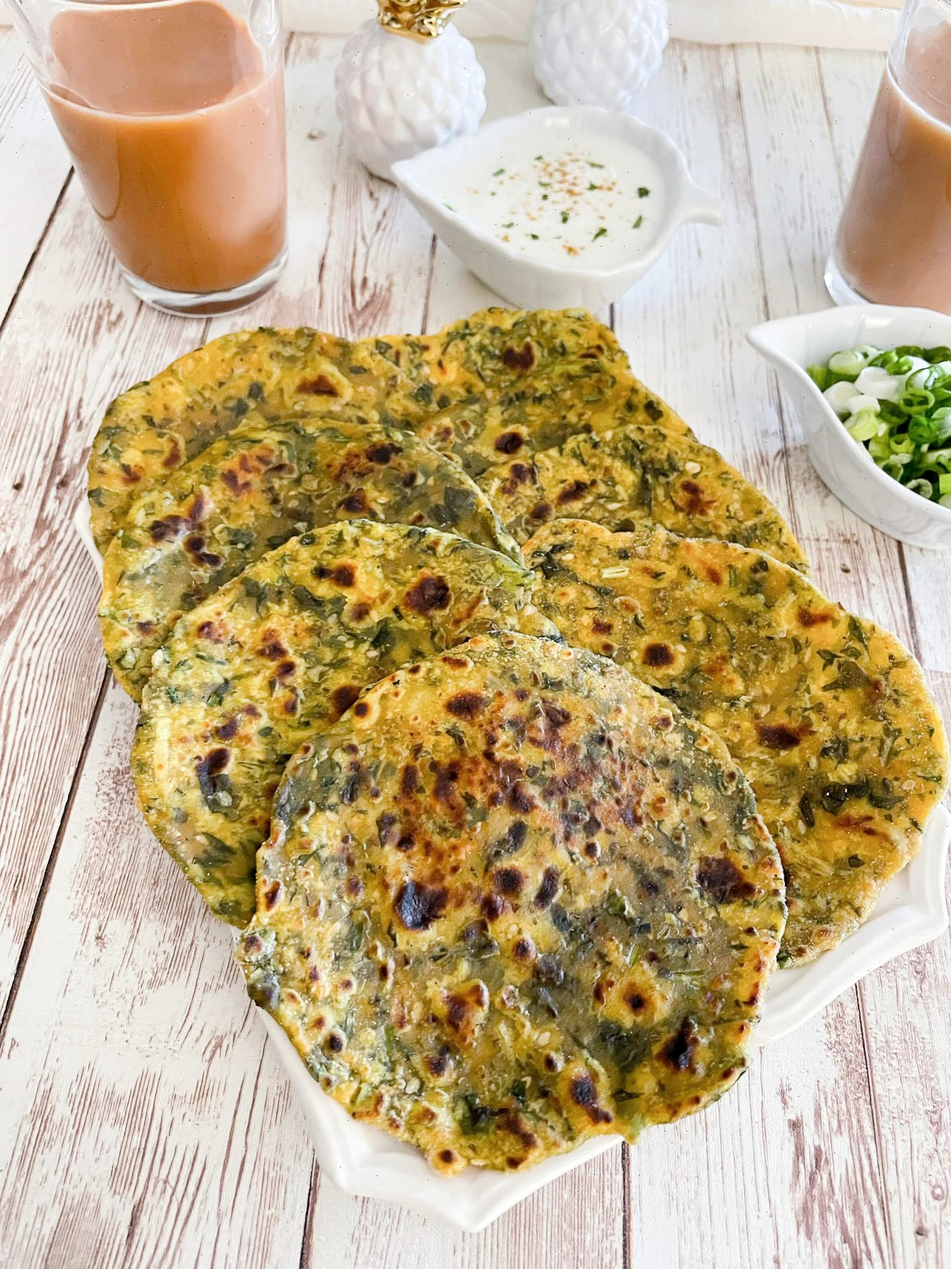thepla: (199, 370, 903, 1110)
